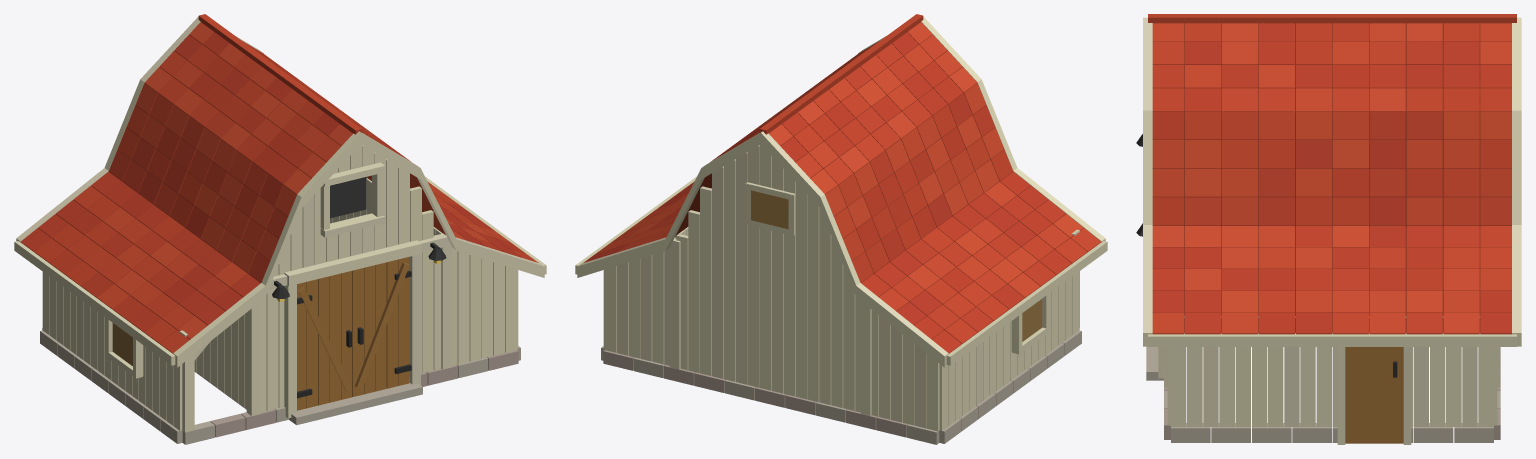
File: Farm_Lumbung_A.fbx
3 renders of one model, left to right at view 1: azimuth 30°, elevation 25°; view 2: azimuth 150°, elevation 25°; view 3: azimuth 270°, elevation 25°, orthographic. The views are drawn at different scales.
Parts seen in each view (by area): view 1: Farm_Lumbung_A; view 2: Farm_Lumbung_A; view 3: Farm_Lumbung_A.
Part boxes in pixels (x1,y1,x2,y2): Farm_Lumbung_A: [14, 14, 546, 444]; Farm_Lumbung_A: [575, 14, 1107, 444]; Farm_Lumbung_A: [1136, 14, 1521, 444].
Bounding box in the file's own units: 7.86 × 5.6 × 5.96.
